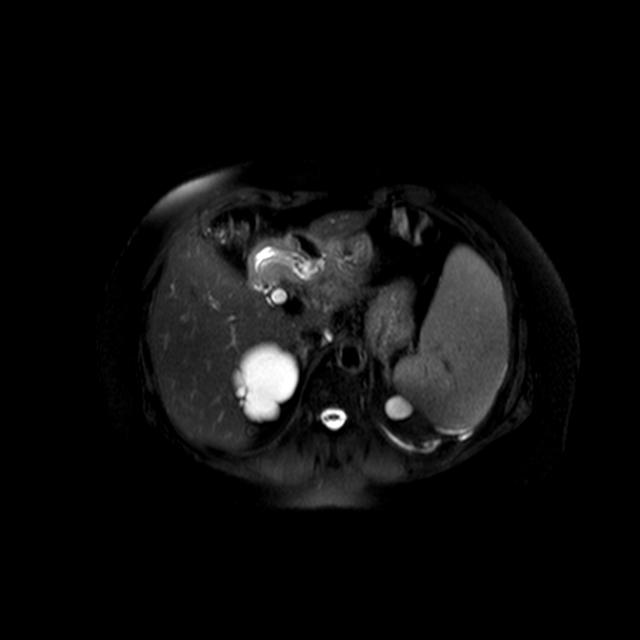sag: (233, 342, 303, 423)
sol: (383, 396, 416, 418)
